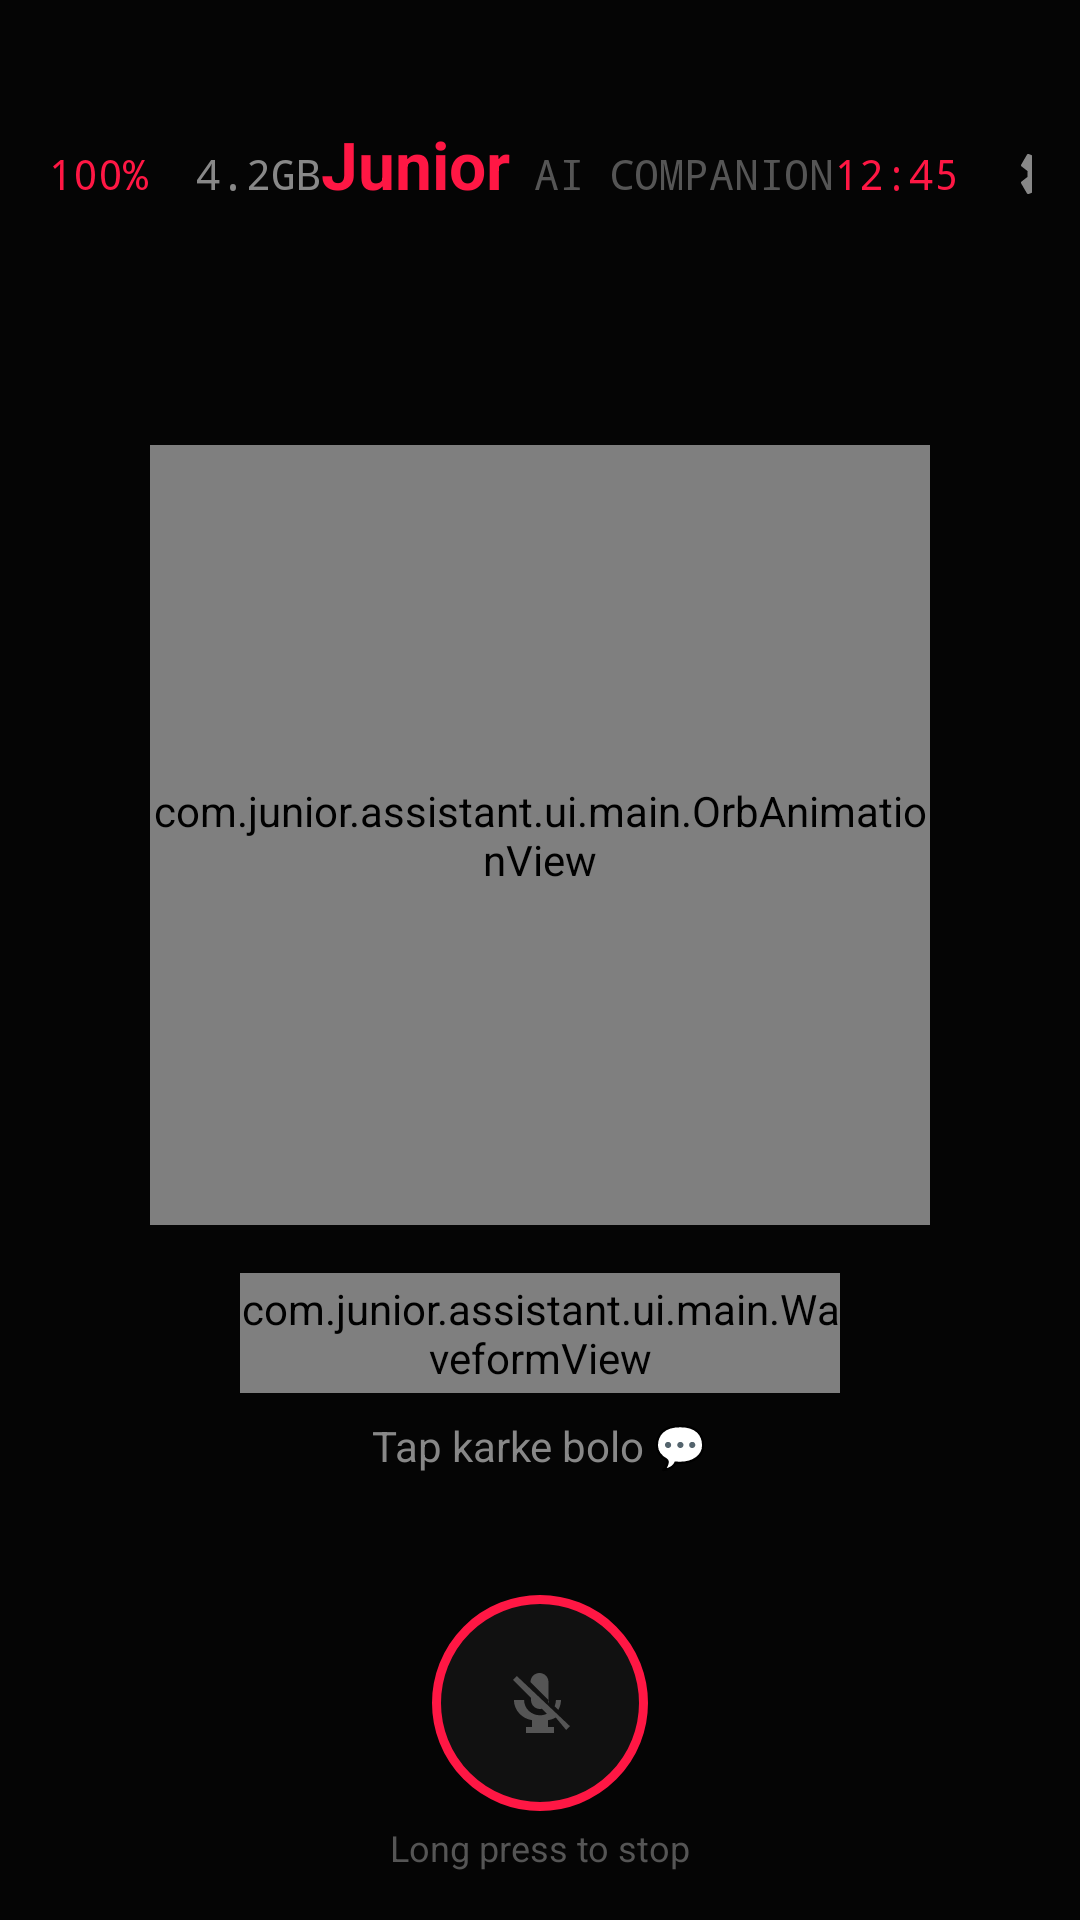

Icon bounding boxes for this 1080px×1920px phone screenshot, format [x1, y1, x2, y2]:
mic off: [432, 1595, 648, 1811]
